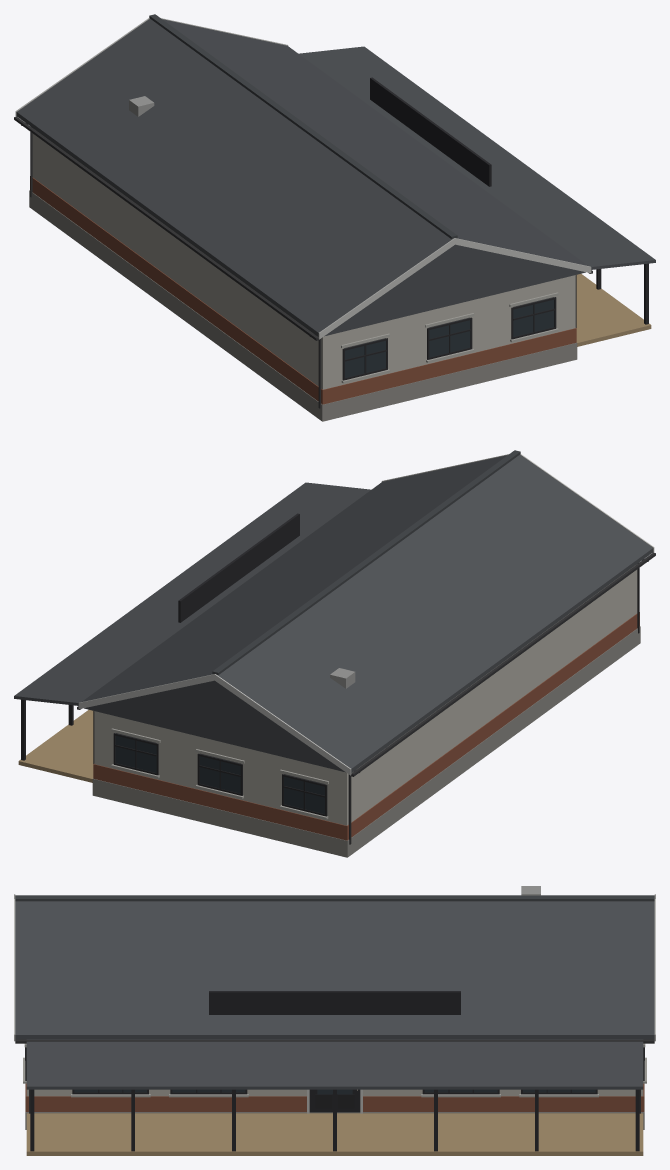
The model's file is SM_Prop_cafe_building_15.glb.
3 renders of one model, top to bottom at view 1: azimuth 30°, elevation 25°; view 2: azimuth 150°, elevation 25°; view 3: azimuth 270°, elevation 25°, orthographic. The views are drawn at different scales.
Parts seen in each view (by area): view 1: SM_Prop_cafe_building_15; view 2: SM_Prop_cafe_building_15; view 3: SM_Prop_cafe_building_15.
Part boxes in pixels (<box>): SM_Prop_cafe_building_15: <box>14,14,655,421</box>; SM_Prop_cafe_building_15: <box>14,450,655,857</box>; SM_Prop_cafe_building_15: <box>14,886,655,1155</box>.
Bounding box in the file's own units: 15.02 × 6.57 × 22.9.
